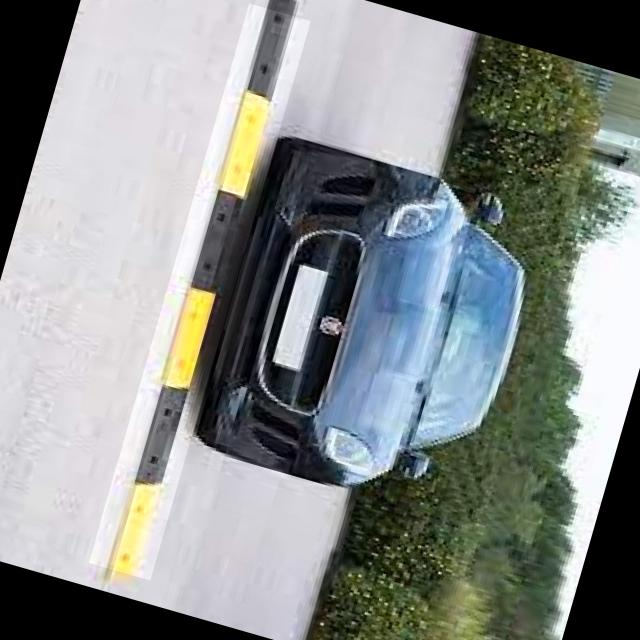bump: (88, 3, 310, 580)
